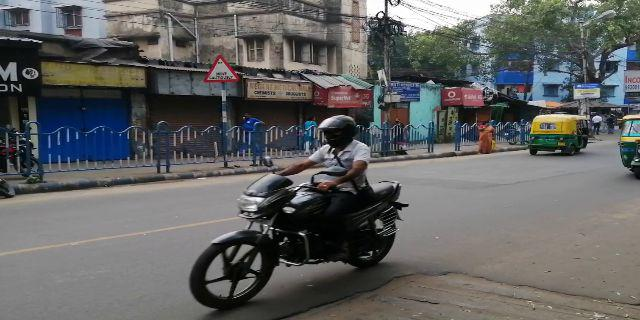Autorickshaw: (530, 117, 592, 156)
Motorbike: (188, 117, 409, 307)
